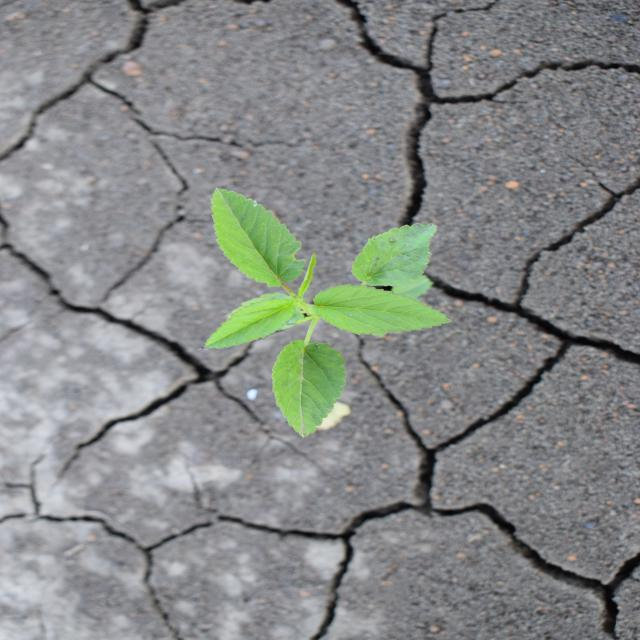PricklySida: (201, 185, 457, 441)
